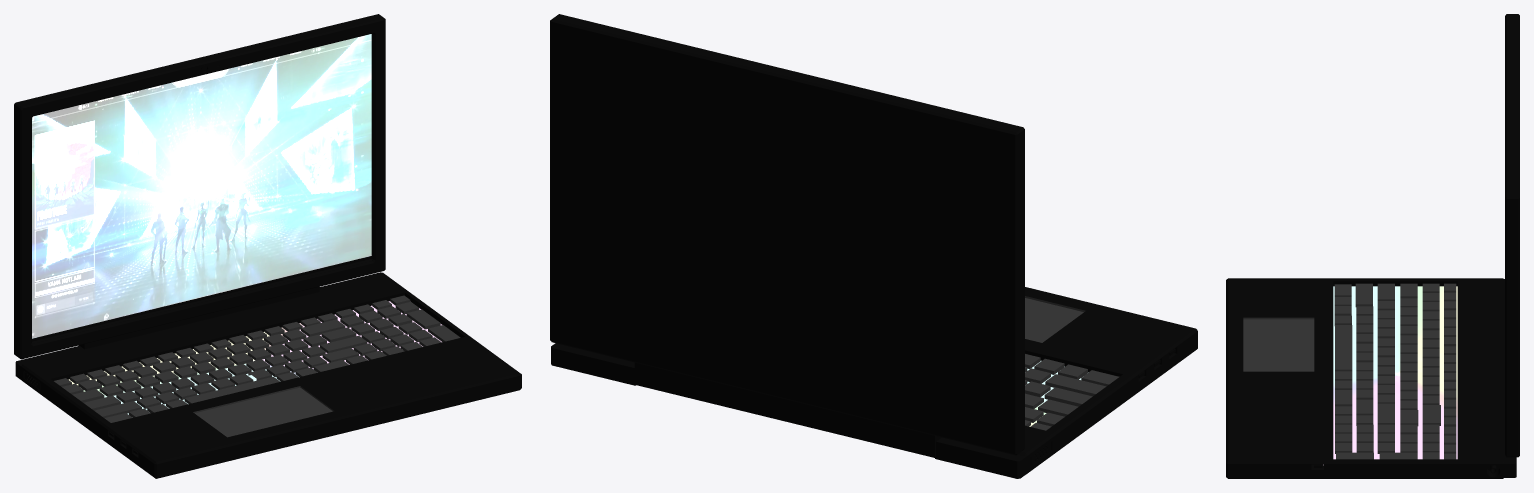
The model's file is laptop1-transformed.glb.
The picture shows the model from 3 angles, left to right: view 1: azimuth 30°, elevation 25°; view 2: azimuth 150°, elevation 25°; view 3: azimuth 270°, elevation 25°; orthographic projection. The views are drawn at different scales.
Visible parts, largest first — view 1: Plane_0, Plane.001_5, Plane.003_1; view 2: Plane_0; view 3: Plane_0, Plane.003_1.
Boxes of the visible parts, left/top/right/bottom form: Plane_0: left=14, top=14, right=521, bottom=478; Plane.001_5: left=32, top=34, right=371, bottom=338; Plane.003_1: left=68, top=301, right=441, bottom=414; Plane_0: left=550, top=14, right=1197, bottom=478; Plane_0: left=1226, top=14, right=1519, bottom=478; Plane.003_1: left=1323, top=286, right=1457, bottom=465.
Size of the model in its own units: 4.15 by 2.95 by 2.78.
Materials: 4 (1 with a texture image).
